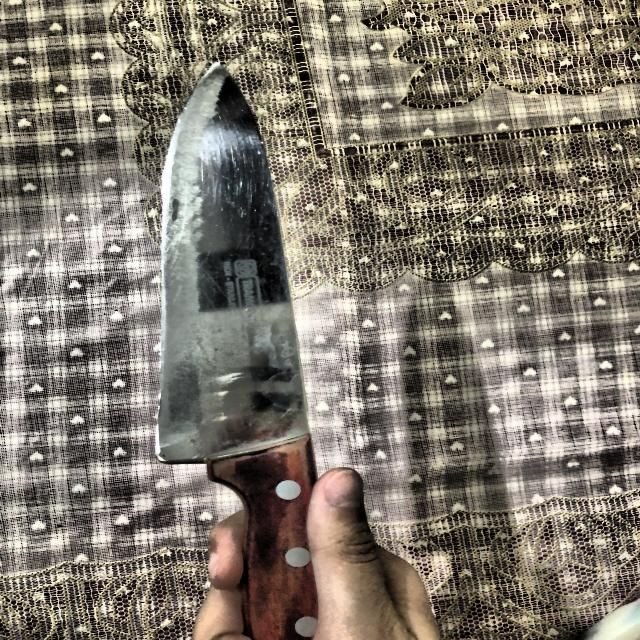knife: (153, 61, 319, 640)
